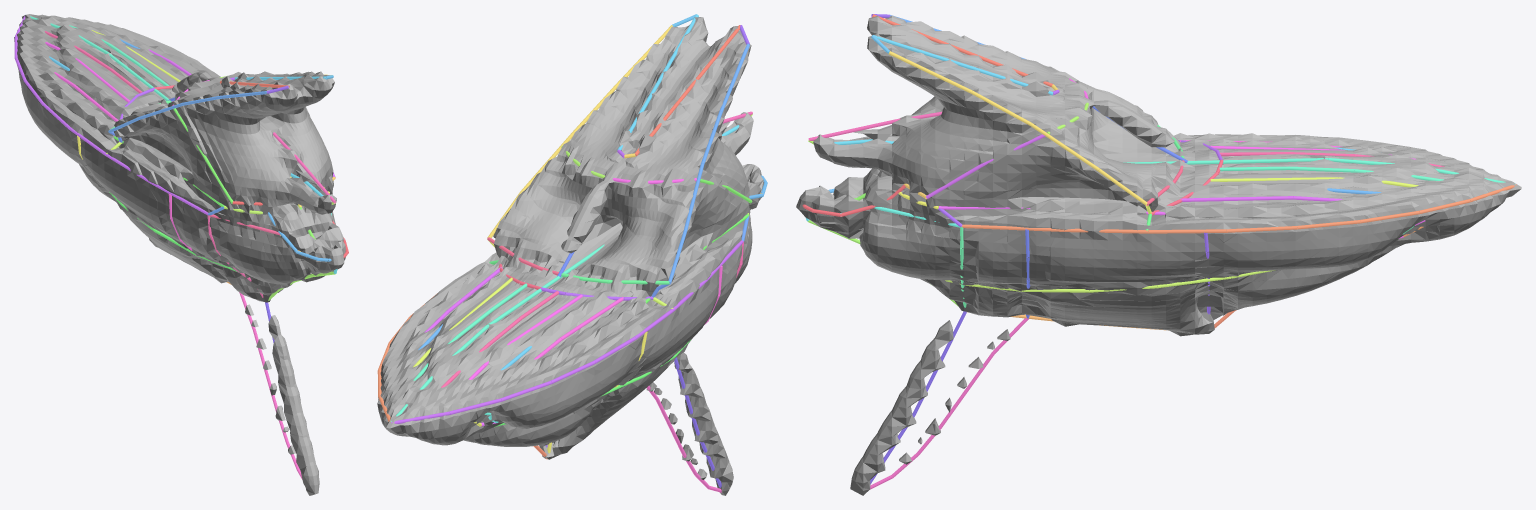
Rendered from ils_boat.gltf.
3 views of the same model, side by side, from view 1: azimuth 30°, elevation 25°; view 2: azimuth 150°, elevation 25°; view 3: azimuth 270°, elevation 25° (orthographic). The views are drawn at different scales.
Bounding box in the file's own units: 0.2458 × 0.5732 × 0.8008.
